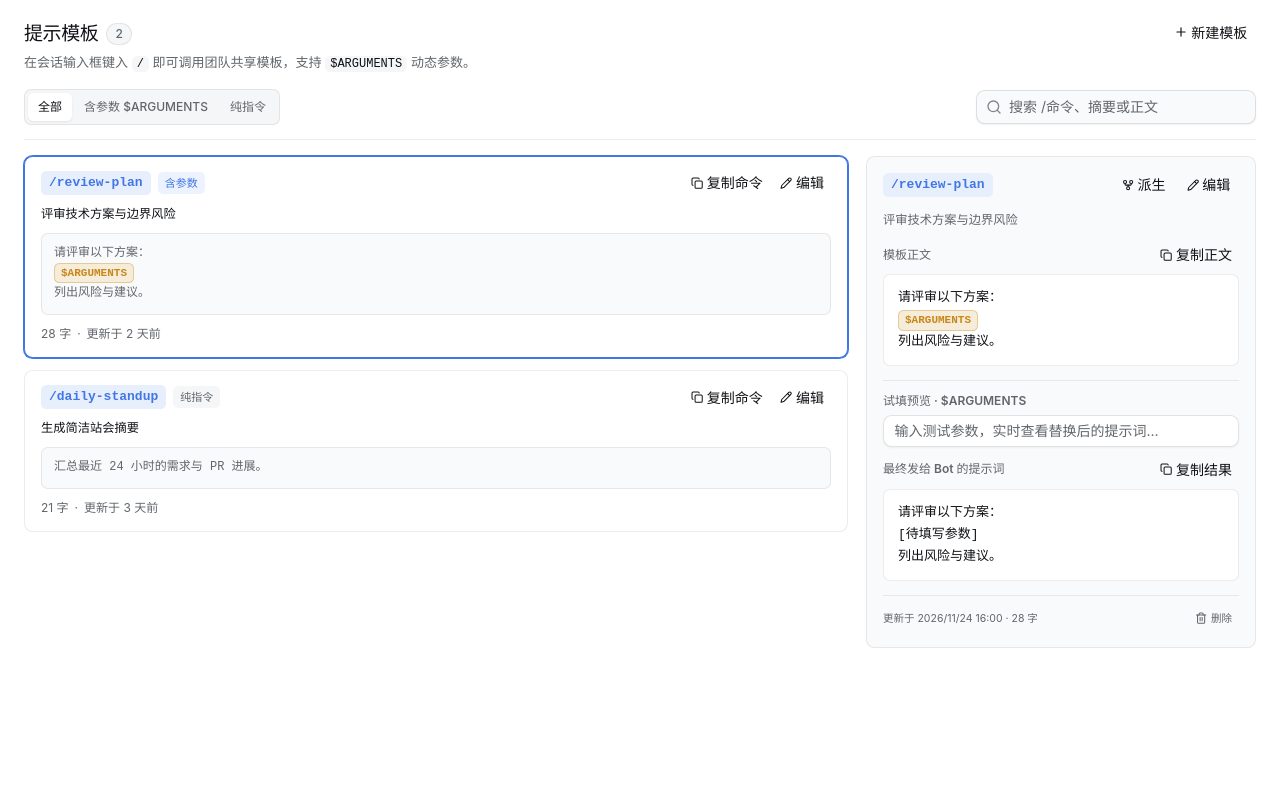
Test case: BotPromptTemplatesPage › 展示卡片正文预览、参数筛选以及右侧 $ARGUMENTS 实时试填预览
Expected: the 1st text "/review-plan" is shown, [41,171,151,194]
In the field with placeholder "输入测试参数，实时查看替换后的提示词…": coordinates (1061, 431) [883,415,1239,446], type "重构技能库"
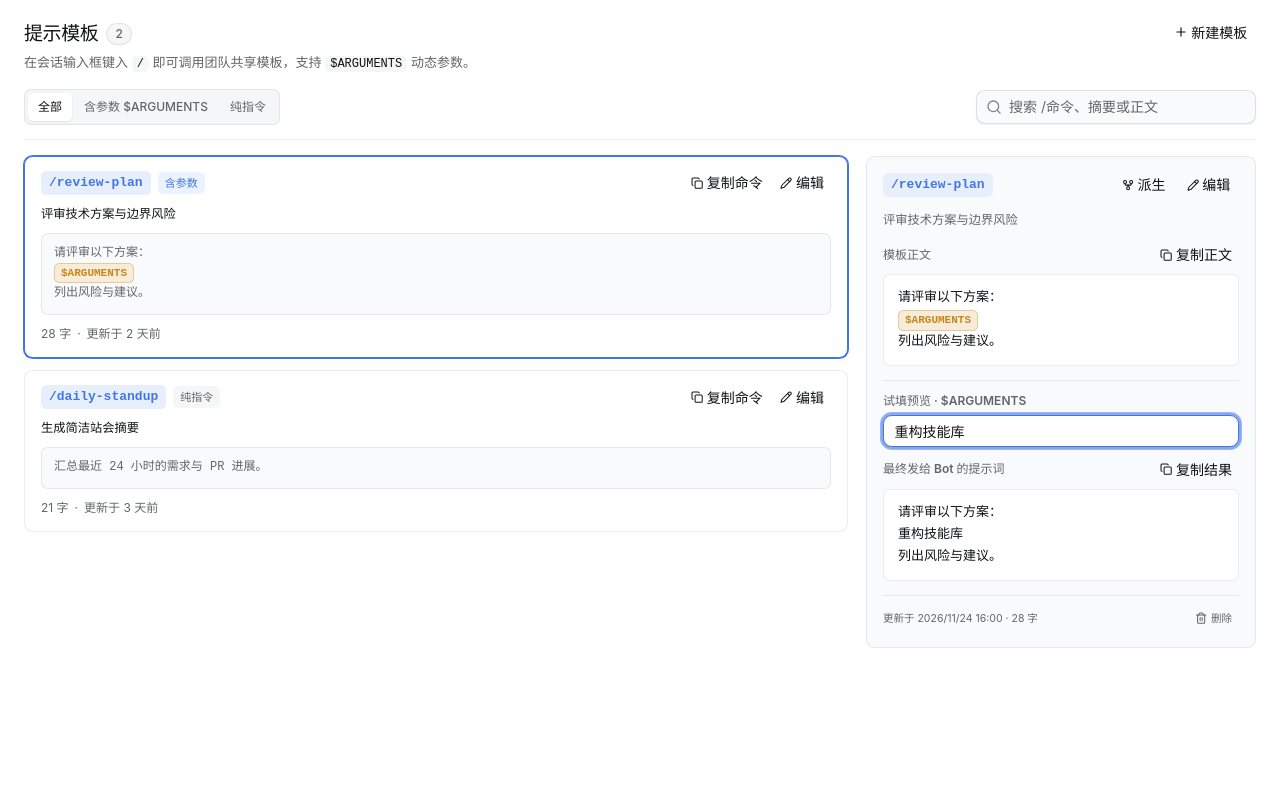
Result: the text "请评审以下方案： 重构技能库 列出风险与建议。" is shown at [883,488,1239,581]
Click the button "纯指令": coordinates (248, 106) [220,92,276,120]
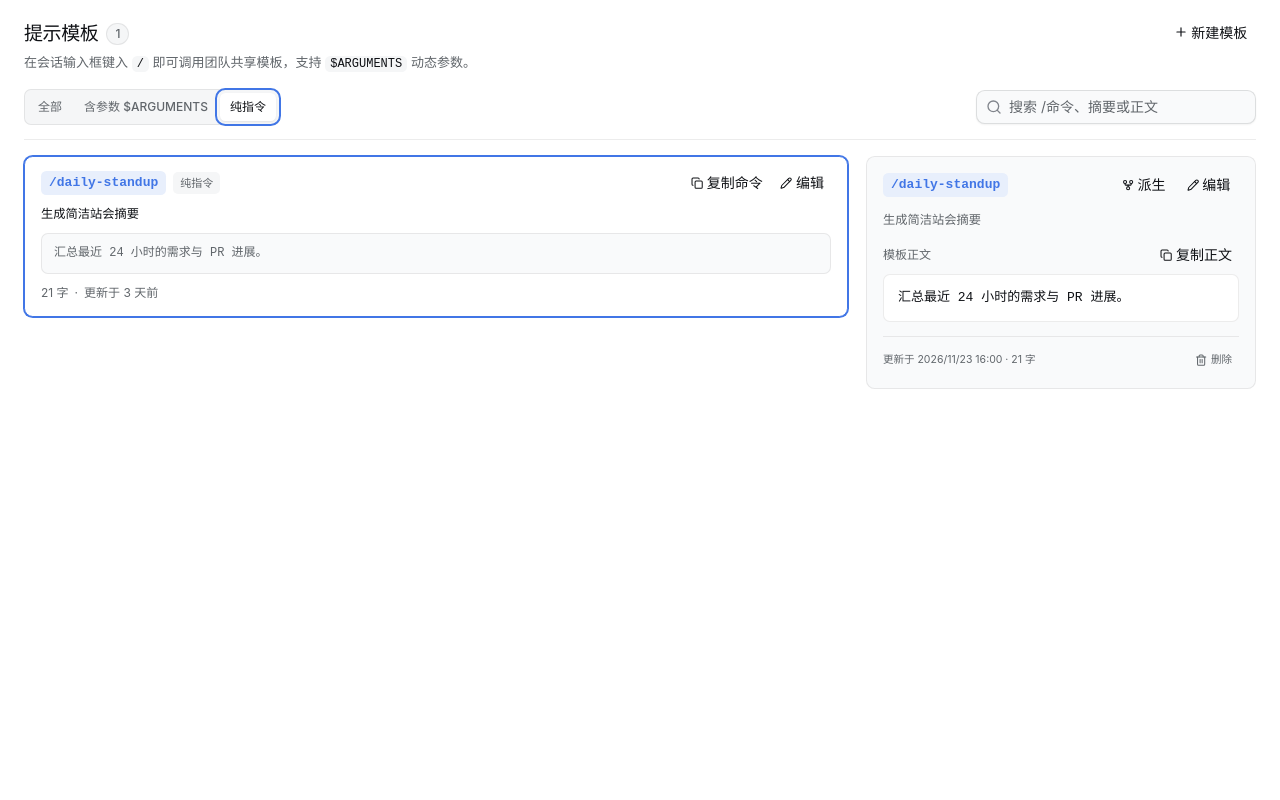
Expected: the 1st text "生成简洁站会摘要" is shown, [41,206,139,221]
Result: the text "评审技术方案与边界风险" is gone
